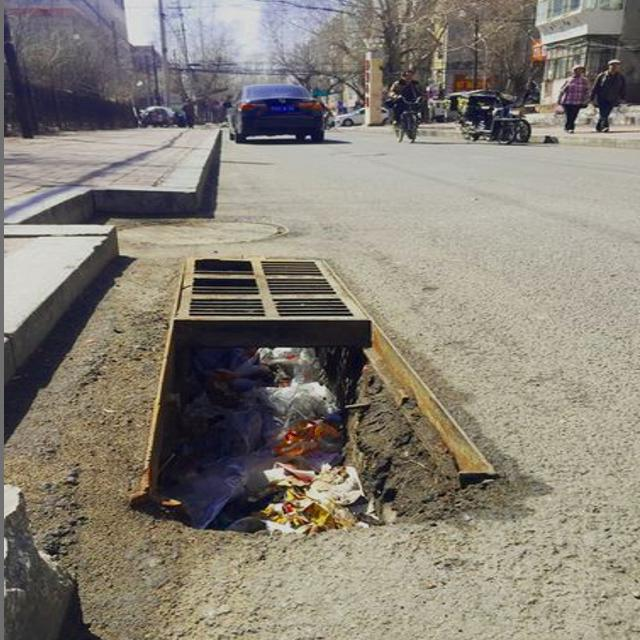lose: (94, 321, 505, 532)
